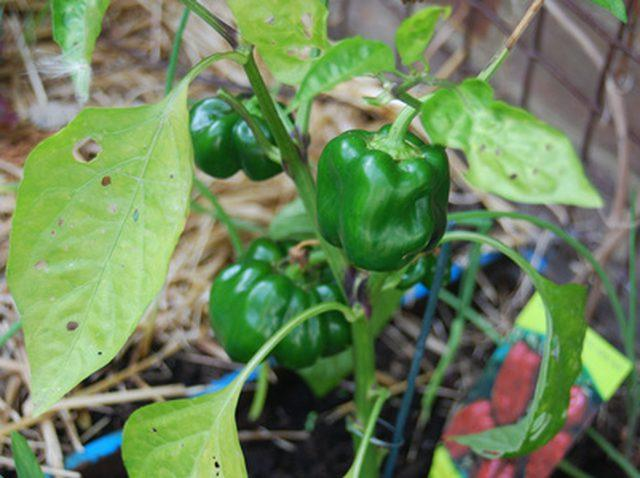Bell_pepper leaf spot: (13, 93, 197, 401)
